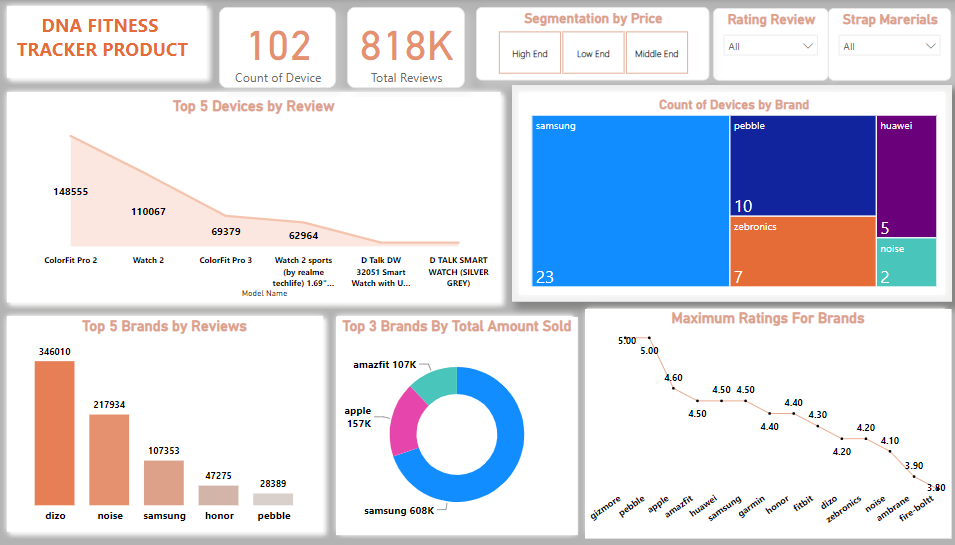

The dashboard page shown, as its layout file describes it:
{"tool":"powerbi","page":{"name":"Page 2","canvas":[1280,720],"ordinal":1},"visuals":[{"type":"shape","box":[774.6,395.2,485.7,310.4],"z":0},{"type":"shape","box":[17.2,112.1,662.5,293.2],"z":1000},{"type":"shape","box":[685.5,112.1,574.9,283.1],"z":2000},{"type":"shape","box":[448.4,405.3,326.2,300.4],"z":3000},{"type":"shape","box":[17.2,405.3,431.1,300.4],"z":4000},{"type":"card","fields":{"Values":["Table.Total Reviews"]},"box":[470.4,10.5,154.2,105.8],"z":5000},{"type":"card","fields":{"Values":["Table.Count of Device"]},"box":[303.2,7.2,152.3,112.1],"z":6000},{"type":"clusteredColumnChart","title":"Top 5 Brands by Reviews ","fields":{"Y":["Table.Total Reviews"],"Category":["DataDNA Dataset Challenge - April 2023.Brand"]},"box":[28.7,415.3,406.7,277.4],"z":7000},{"type":"stackedAreaChart","title":"Top 5 Devices by Review","fields":{"Category":["DataDNA Dataset Challenge - April 2023.Model Name"],"Y":["Table.Total Reviews"]},"box":[28.7,127.9,639.5,267.3],"z":8000},{"type":"treemap","title":"Count of Devices by Brand","fields":{"Group":["DataDNA Dataset Challenge - April 2023.Brand"],"Values":["Table.Count of Device"]},"box":[707.1,127.9,538.9,252.9],"z":9000},{"type":"donutChart","title":"Top 3 Brands By Total Amount Sold","fields":{"Category":["DataDNA Dataset Challenge - April 2023.Brand"],"Y":["Sum(DataDNA Dataset Challenge - April 2023.Current Price)"]},"box":[455.6,415.3,316.2,284.6],"z":10000},{"type":"lineChart","title":"Maximum Ratings For Brands","fields":{"Category":["DataDNA Dataset Challenge - April 2023.Brand"],"Y":["Max(DataDNA Dataset Challenge - April 2023.Rating)"]},"box":[781.8,405.3,478.6,300.4],"z":11000},{"type":"slicer","title":"Rating Review","fields":{"Values":["DataDNA Dataset Challenge - April 2023.Rating Review"]},"box":[948.5,11.5,150.9,94.9],"z":12000},{"type":"slicer","title":"Strap Marerials","fields":{"Values":["DataDNA Dataset Challenge - April 2023.Strap Material"]},"box":[1099.4,11.5,161,94.9],"z":13000},{"type":"shape","box":[17.2,0,278.8,112.1],"z":14000},{"type":"textbox","box":[28.7,11.5,244.3,87.7],"z":15000},{"type":"slicer","title":"Segmentation by Price","fields":{"Values":["DataDNA Dataset Challenge - April 2023.Device Class by Price"]},"box":[639.5,10.1,304.7,96.3],"z":16000}]}

Visuals, with their boxes in screenshot pixels (x1, y1, x2, y2), scaled from the page's 1280x720 canvas onto the 955x545 screenshot:
shape: [left=578, top=299, right=940, bottom=534]
shape: [left=13, top=85, right=507, bottom=307]
shape: [left=511, top=85, right=940, bottom=299]
shape: [left=335, top=307, right=578, bottom=534]
shape: [left=13, top=307, right=334, bottom=534]
card - Table.Total Reviews: [left=351, top=8, right=466, bottom=88]
card - Table.Count of Device: [left=226, top=5, right=340, bottom=90]
"Top 5 Brands by Reviews " clusteredColumnChart: [left=21, top=314, right=325, bottom=524]
"Top 5 Devices by Review" stackedAreaChart: [left=21, top=97, right=499, bottom=299]
"Count of Devices by Brand" treemap: [left=528, top=97, right=930, bottom=288]
"Top 3 Brands By Total Amount Sold" donutChart: [left=340, top=314, right=576, bottom=530]
"Maximum Ratings For Brands" lineChart: [left=583, top=307, right=940, bottom=534]
"Rating Review" slicer: [left=708, top=9, right=820, bottom=81]
"Strap Marerials" slicer: [left=820, top=9, right=940, bottom=81]
shape: [left=13, top=0, right=221, bottom=85]
textbox: [left=21, top=9, right=204, bottom=75]
"Segmentation by Price" slicer: [left=477, top=8, right=704, bottom=81]
